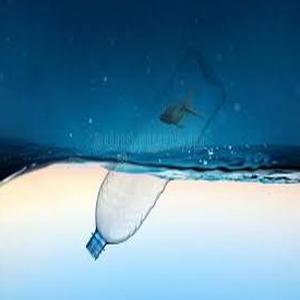Plastic: (77, 57, 226, 266)
